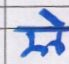o_matra: (53, 15, 66, 55)
